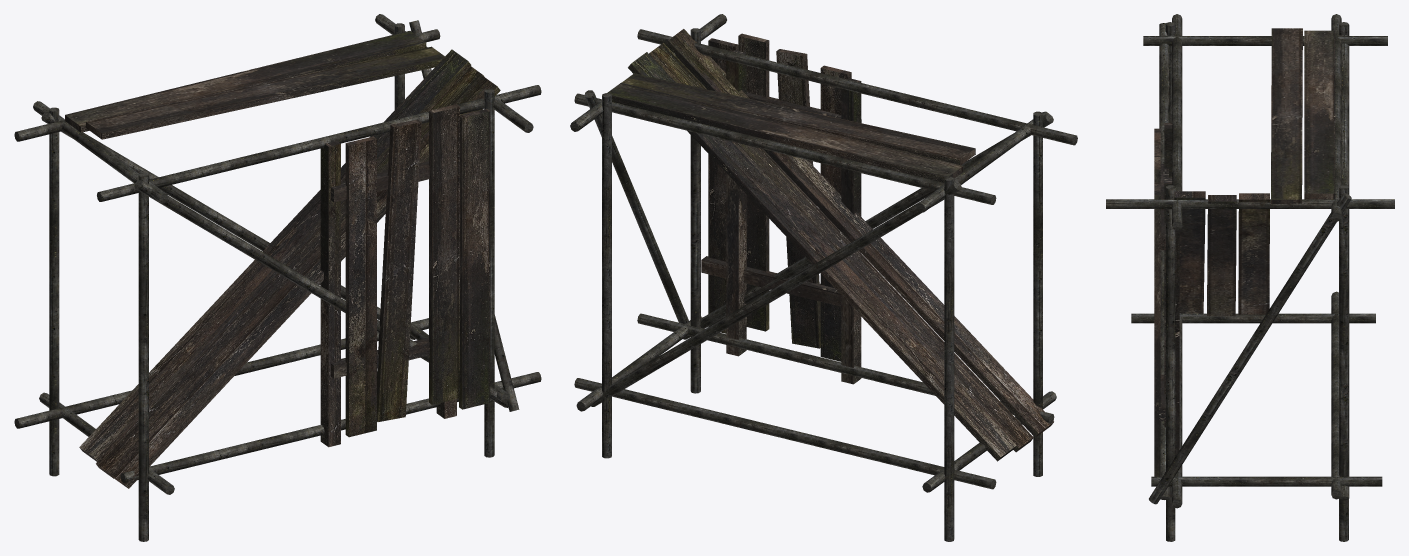
File: Scaffolding_4.fbx
The picture shows the model from 3 angles, left to right: view 1: azimuth 30°, elevation 25°; view 2: azimuth 150°, elevation 25°; view 3: azimuth 270°, elevation 25°; orthographic projection. The views are drawn at different scales.
Parts seen in each view (by area): view 1: Scaffolding_4; view 2: Scaffolding_4; view 3: Scaffolding_4.
Boxes of the visible parts, x1,y1,x2,y2 form: Scaffolding_4: (14,14,541,541); Scaffolding_4: (570,14,1077,541); Scaffolding_4: (1106,14,1394,541).
Size of the model in its own units: 315 by 251 by 186.
